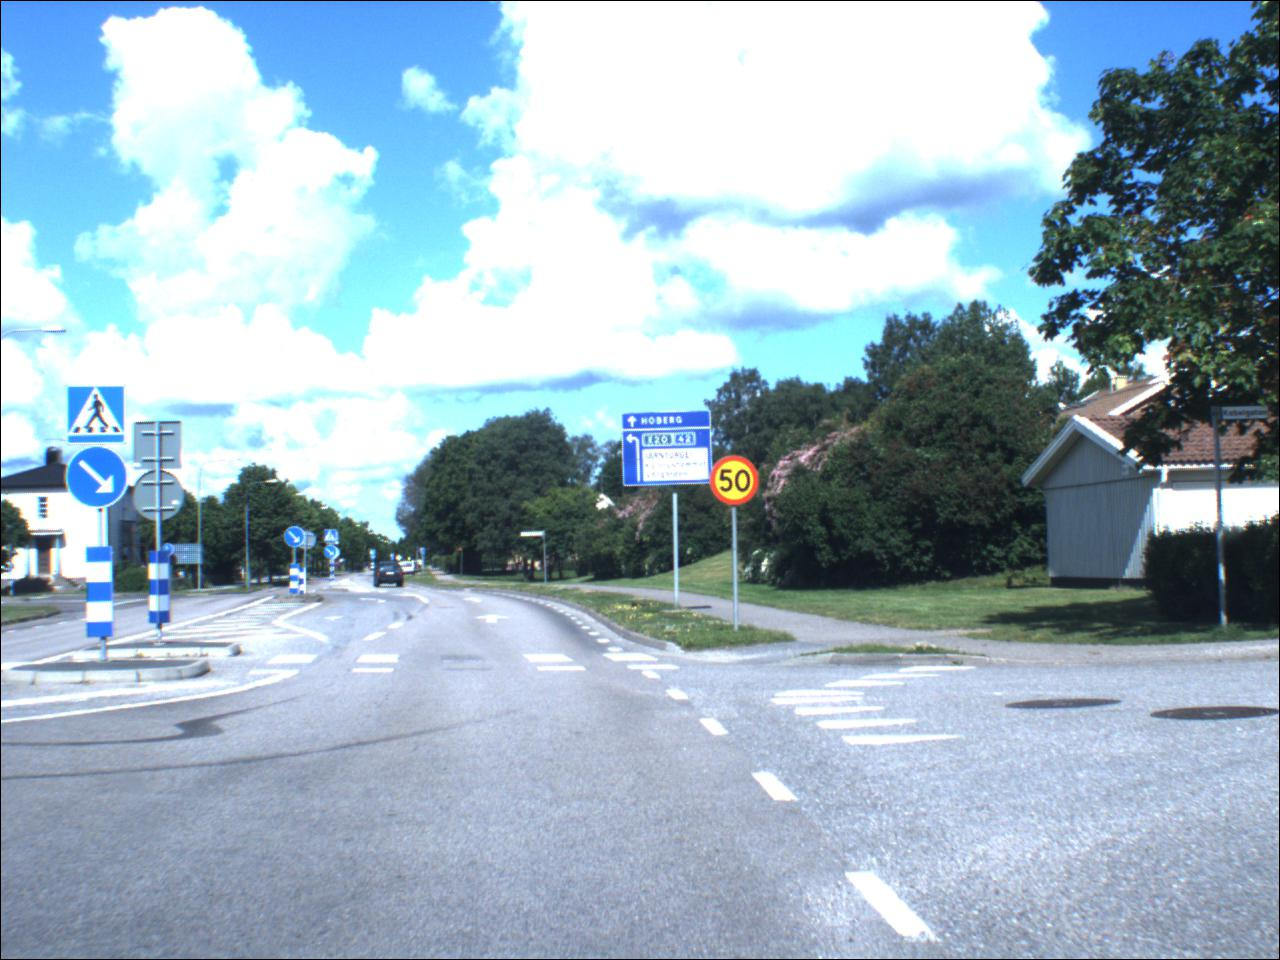50_SIGN: (711, 457, 761, 508)
PASS_RIGHT_SIDE: (65, 448, 130, 511), (284, 527, 310, 551), (325, 549, 338, 561)
PEDESTRIAN_CROSSING: (68, 386, 126, 445), (326, 531, 340, 545)
